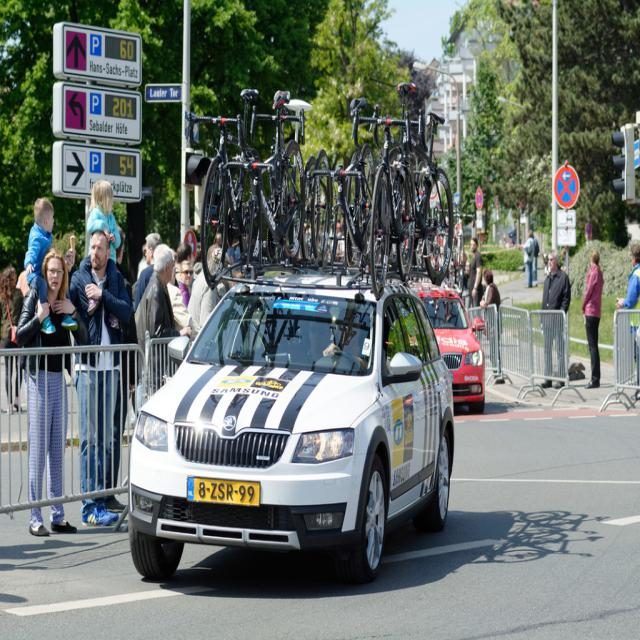car: (105, 264, 466, 582)
